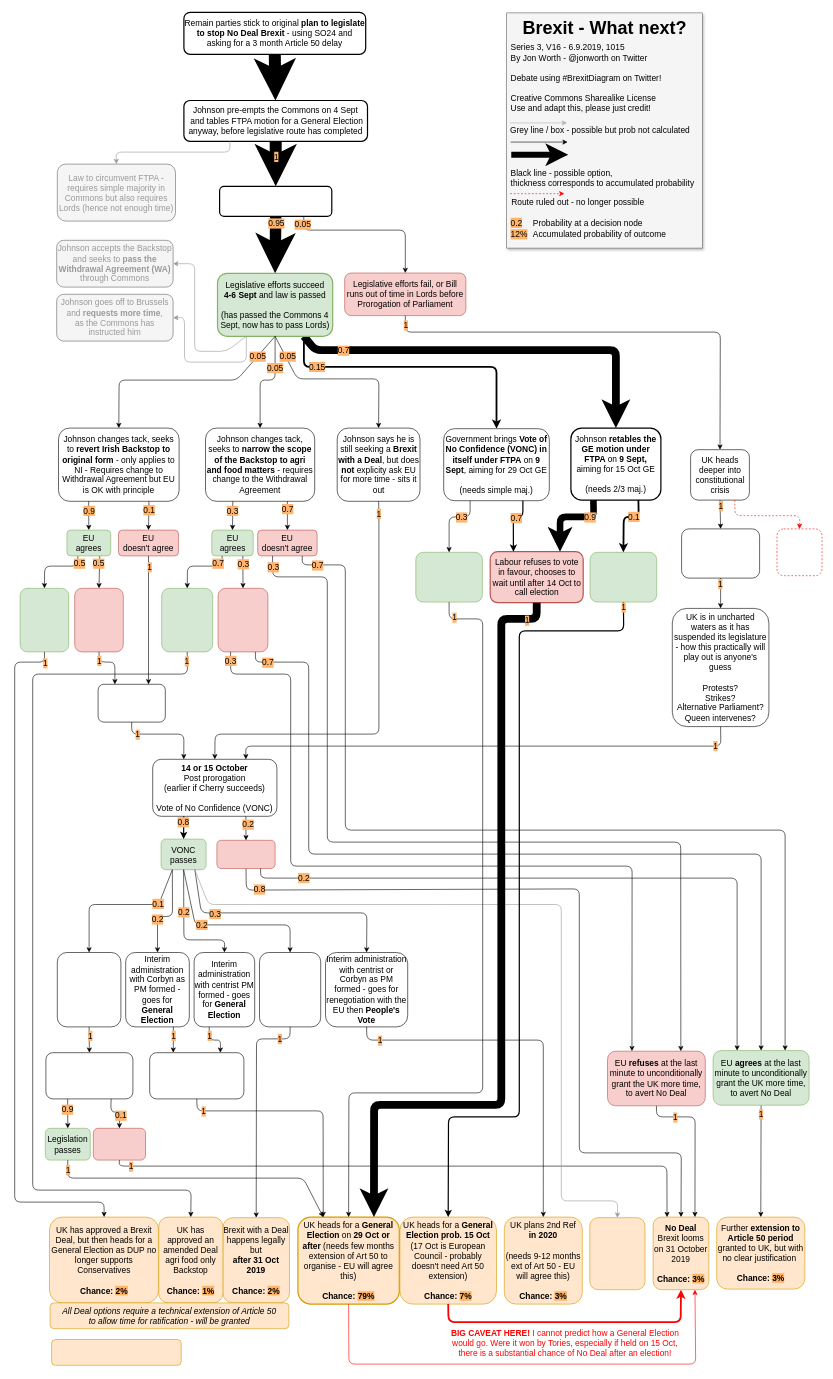
Image size: 833x1379. Some labels were removed from this diagram. Each missing label, with the centre of its shape:
Cherry et al case failed 4 Sep: the point at 799,552
Commons votes against Deal with agrifood backstop: the point at 243,620
Commons votes against Deal with original backstop: the point at 98,620
Commons votes in favour of Deal with agrifood backstop: the point at 187,620
Commons votes in favour of Deal with original backstop: the point at 44,620
Commons votes to Revoke Article 50 Chance: -%: the point at 617,1253
Cumulative Chance GE: 87% Cumulative Chance Deal: 5%: the point at 116,1352
DUP furious at Johnson's approach: the point at 131,703
Interim administration with centrist PM formed - revives Theresa May's Deal: the point at 290,989
Labour is OK with this, so 2/3 majority achieved: the point at 623,577
Labour is OK with this, so simple majority achieved: the point at 448,577
Legislation doesn't pass: the point at 119,1144
Might need emergency legislation to prevent No Deal before 31 Oct - will pass: the point at 196,1075
Might need emergency legislation to prevent No Deal in 14 day period: the point at 89,1075
No 2/3 majority for election under FTPA: the point at 275,201
No administration can be formed, so after 14 days UK goes for General Election: the point at 89,989
Prorogation succeeds and Commons does not sit until 14 October: the point at 720,553
VONC doesn't pass: the point at 245,854
